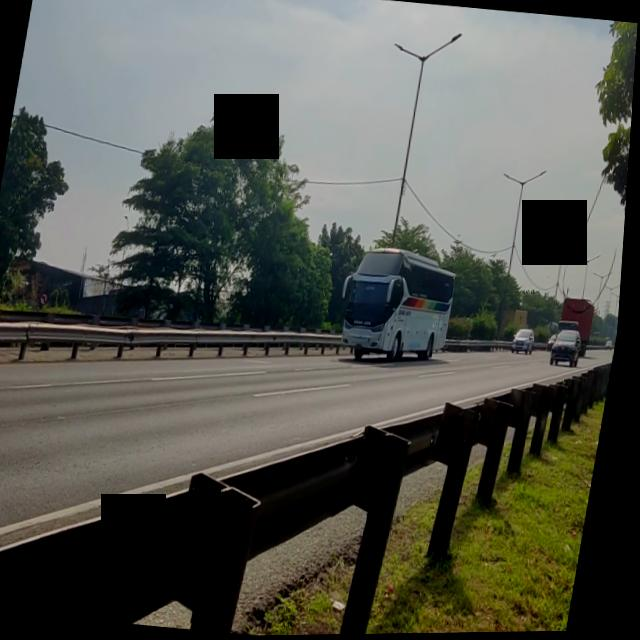Golongan I: (337, 245, 464, 375)
